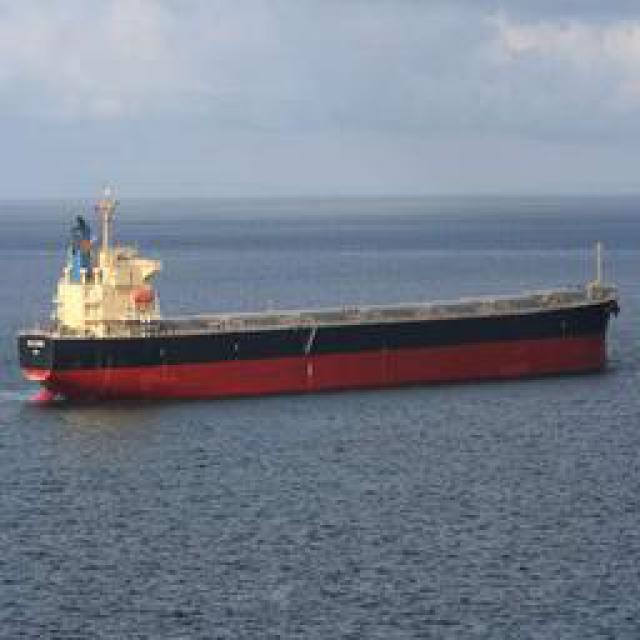Ship: (16, 206, 614, 409)
